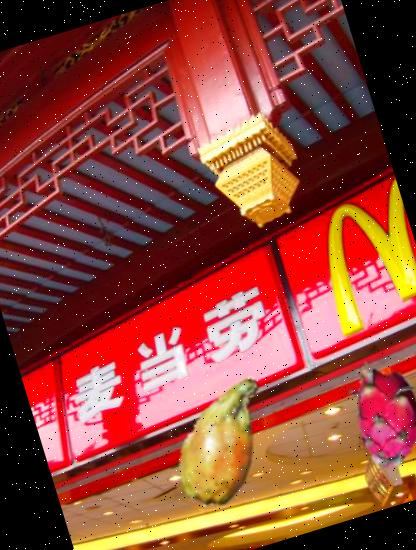Cactus: (137, 353, 309, 525)
Pitahaya: (318, 345, 416, 482)
